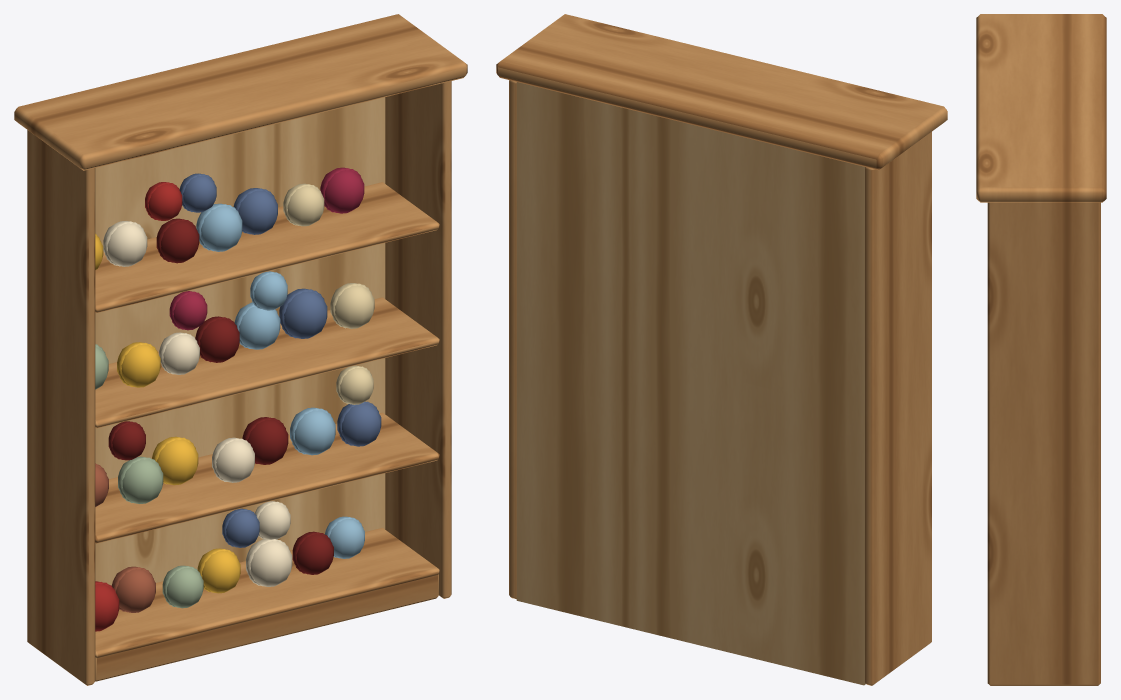
Rendered from yarn_shelf.glb.
3 renders of one model, left to right at view 1: azimuth 30°, elevation 25°; view 2: azimuth 150°, elevation 25°; view 3: azimuth 270°, elevation 25°, orthographic. The views are drawn at different scales.
Parts seen in each view (by area): view 1: model; view 2: model; view 3: model.
Part boxes in pixels (x1,y1,x2,y2): model: (14, 14, 467, 685); model: (496, 14, 947, 685); model: (976, 14, 1106, 685).
Bounding box in the file's own units: 1.48 × 1.96 × 0.46.
12 materials, 2 textured.
